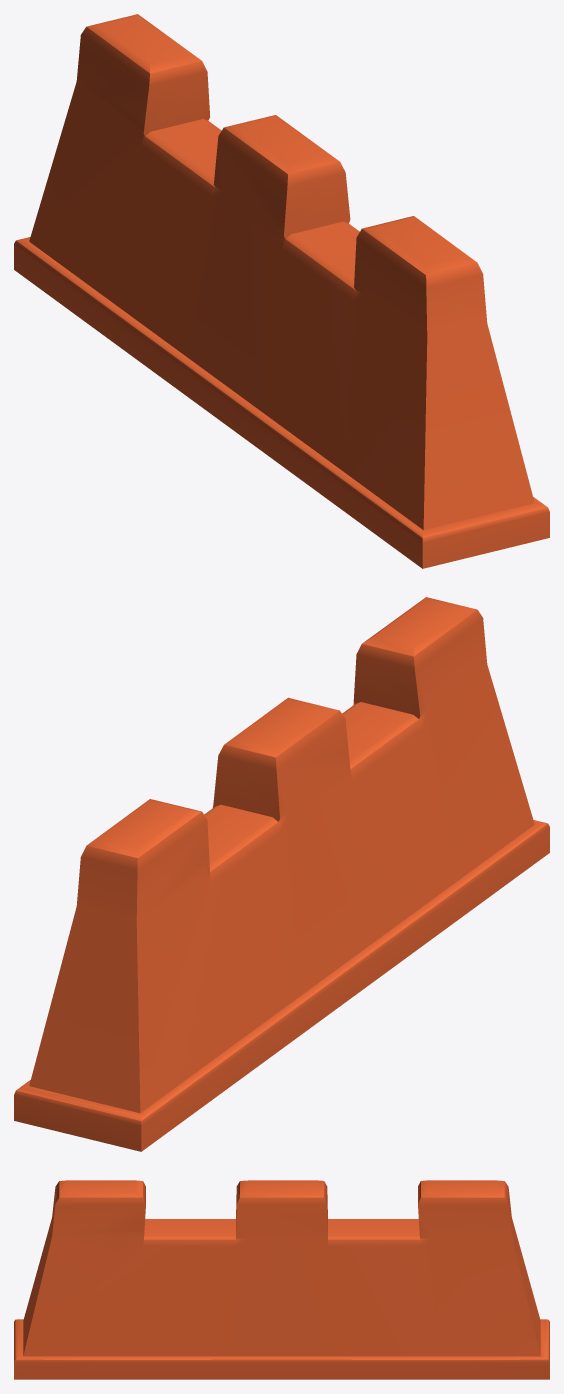
Rendered from Barricade_01.fbx.
The picture shows the model from 3 angles, top to bottom: view 1: azimuth 30°, elevation 25°; view 2: azimuth 150°, elevation 25°; view 3: azimuth 270°, elevation 25°; orthographic projection. The views are drawn at different scales.
Parts seen in each view (by area): view 1: pCube126; view 2: pCube126; view 3: pCube126.
Part boxes in pixels (x1=…): pCube126: x1=14, y1=14, x2=549, y2=568; pCube126: x1=14, y1=597, x2=549, y2=1151; pCube126: x1=14, y1=1180, x2=549, y2=1379.
Size of the model in its own units: 0.2784 by 0.5495 by 1.55.
